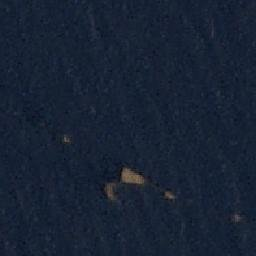debris: (116, 165, 146, 185), (104, 182, 115, 198), (230, 212, 243, 223), (163, 190, 176, 199), (62, 132, 71, 142)
